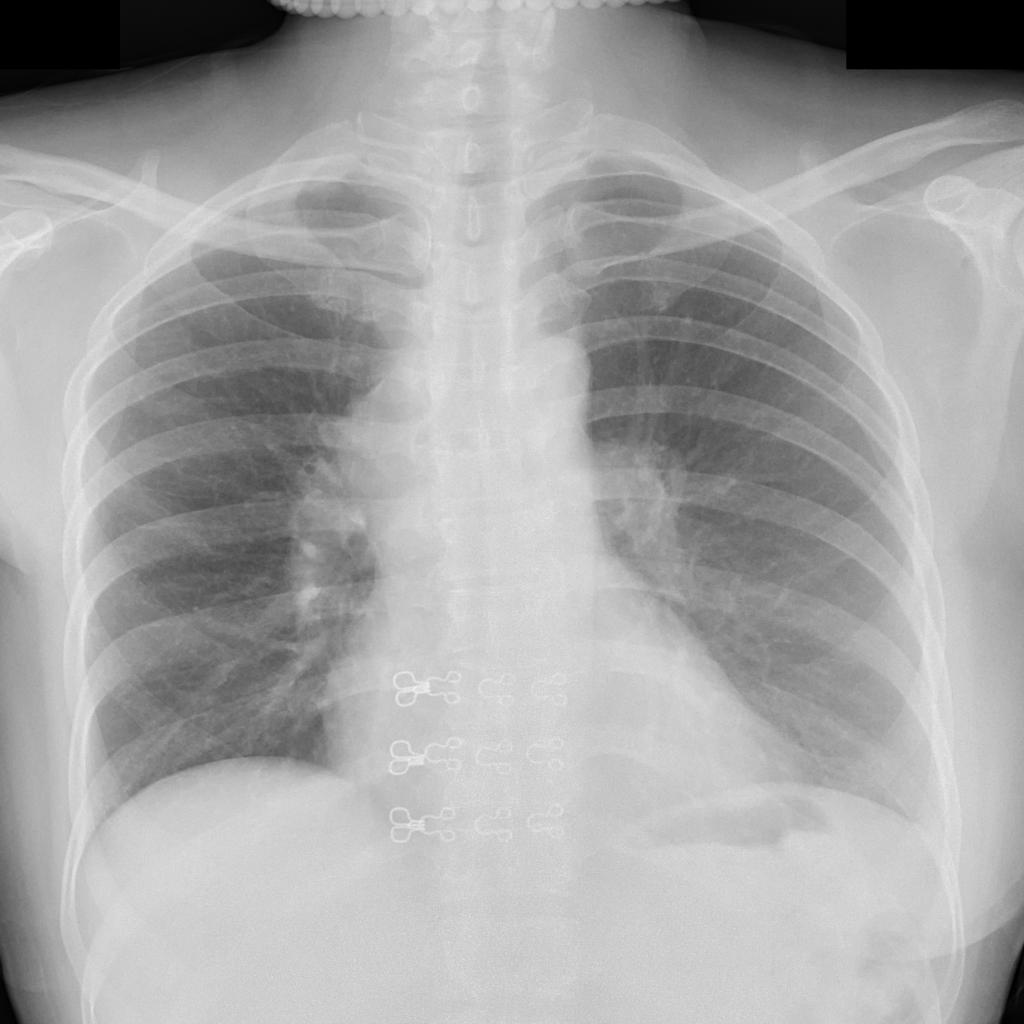Nodule: (340, 349, 451, 541)
